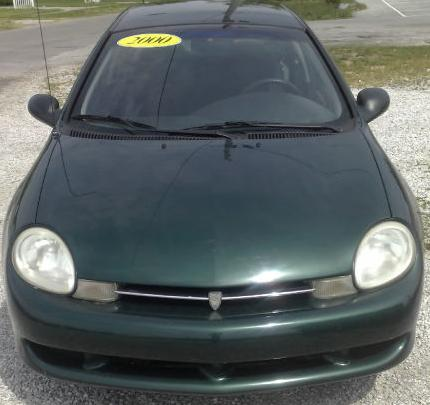front_view: (12, 196, 416, 405)
headlight: (327, 205, 410, 306)
